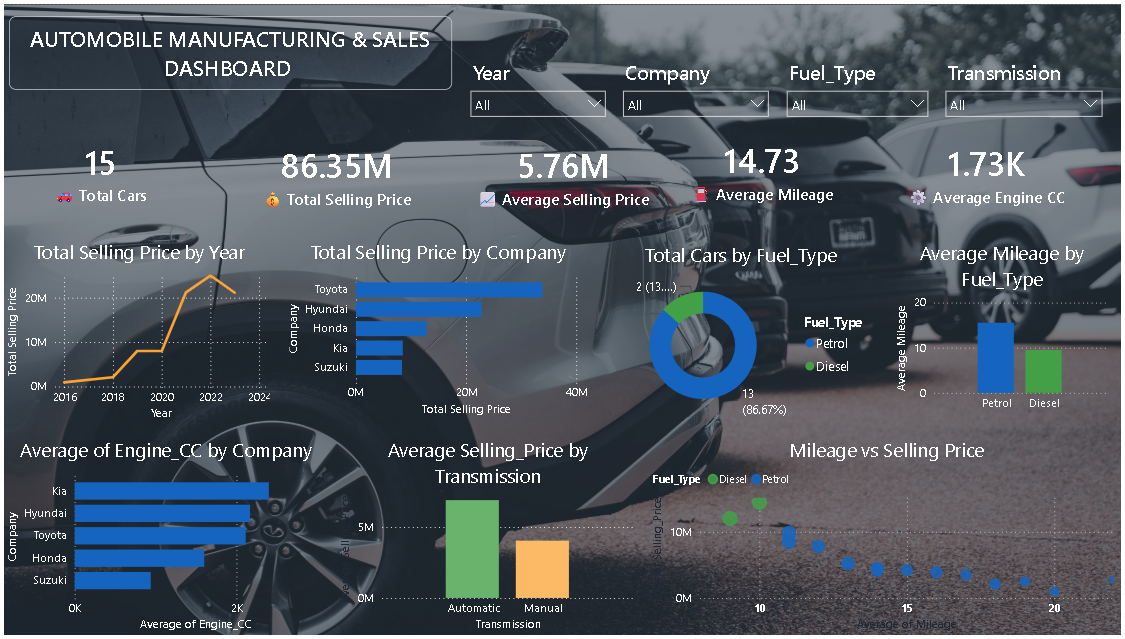

What the dashboard file says about the page in this screenshot:
{"tool":"powerbi","page":{"name":"Overview","canvas":[1280,720],"ordinal":0},"visuals":[{"type":"lineChart","fields":{"Category":["CarData.Year"],"Y":["Car Data.Measure 3"]},"box":[0,265.4,308.8,213.5],"z":0},{"type":"barChart","fields":{"Category":["1ffcb763caad22839f30d9486f2203d.Company"],"Y":["Car Data.Measure"]},"box":[322.1,265.4,349.9,208.7],"z":1000},{"type":"donutChart","fields":{"Category":["CarData.Fuel_Type"],"Y":["Car Data.Total Cars"]},"box":[679.2,270.2,328.2,208.7],"z":2000},{"type":"scatterChart","title":"Mileage vs Selling Price","fields":{"Category":["CarData.Car_Name"],"Series":["CarData.Fuel_Type"],"Size":["Avg(CarData.Engine_CC)"],"X":["Avg(CarData.Mileage)"],"Y":["Sum(CarData.Selling_Price)"]},"box":[737.1,492.2,542.9,228],"z":3000},{"type":"clusteredColumnChart","fields":{"Category":["CarData.Transmission"],"Y":["Avg(CarData.Selling_Price)"]},"box":[380,492.2,346.2,228],"z":4000},{"type":"columnChart","fields":{"Category":["CarData.Fuel_Type"],"Y":["Avg(CarData.Mileage)"]},"box":[1015.8,267.8,249.7,206.3],"z":5000},{"type":"clusteredBarChart","fields":{"Category":["CarData.Company"],"Y":["Avg(CarData.Engine_CC)"]},"box":[0,492.2,370.4,228],"z":6000},{"type":"cardVisual","fields":{"Data":["Car Data.Total Selling Price2"]},"box":[265.4,135.7,229.9,119.8],"z":7000},{"type":"cardVisual","fields":{"Data":["Car Data.Average Mileage"]},"box":[751.3,130.3,230.4,119.4],"z":8000},{"type":"cardVisual","fields":{"Data":["Car Data.Total Cars"]},"box":[6,130.3,209.9,123.1],"z":9000},{"type":"cardVisual","fields":{"Data":["Car Data.Average Engine CC"]},"box":[994.1,131.5,258.2,123.1],"z":10000},{"type":"textbox","box":[6.1,12.2,506.3,84.4],"z":11000},{"type":"cardVisual","fields":{"Data":["Car Data.Average Selling Price"]},"box":[501.4,135.7,275.1,119.8],"z":12000},{"type":"slicer","fields":{"Values":["CarData.Year"]},"box":[522.1,55,174.9,99],"z":13000},{"type":"slicer","fields":{"Values":["CarData.Company"]},"box":[697,55,187.1,95.4],"z":14000},{"type":"slicer","fields":{"Values":["CarData.Fuel_Type"]},"box":[884.1,55,182.2,95.4],"z":15000},{"type":"slicer","fields":{"Values":["CarData.Transmission"]},"box":[1066.3,55,199.3,103.9],"z":16000}]}

Visuals, with their boxes in screenshot pixels (x1, y1, x2, y2), scaled from the page's 1280x720 canvas onto the 1125x639 screenshot:
lineChart - CarData.Year x Car Data.Measure 3: locate(0, 236, 271, 425)
barChart - 1ffcb763caad22839f30d9486f2203d.Company x Car Data.Measure: locate(283, 236, 591, 421)
donutChart - CarData.Fuel_Type x Car Data.Total Cars: locate(597, 240, 885, 425)
"Mileage vs Selling Price" scatterChart: locate(648, 437, 1124, 638)
clusteredColumnChart - CarData.Transmission x Avg(CarData.Selling_Price): locate(334, 437, 638, 638)
columnChart - CarData.Fuel_Type x Avg(CarData.Mileage): locate(893, 238, 1112, 421)
clusteredBarChart - CarData.Company x Avg(CarData.Engine_CC): locate(0, 437, 326, 638)
cardVisual - Car Data.Total Selling Price2: locate(233, 120, 435, 227)
cardVisual - Car Data.Average Mileage: locate(660, 116, 863, 222)
cardVisual - Car Data.Total Cars: locate(5, 116, 190, 225)
cardVisual - Car Data.Average Engine CC: locate(874, 117, 1101, 226)
textbox: locate(5, 11, 450, 86)
cardVisual - Car Data.Average Selling Price: locate(441, 120, 682, 227)
slicer - CarData.Year: locate(459, 49, 613, 137)
slicer - CarData.Company: locate(613, 49, 777, 133)
slicer - CarData.Fuel_Type: locate(777, 49, 937, 133)
slicer - CarData.Transmission: locate(937, 49, 1112, 141)
